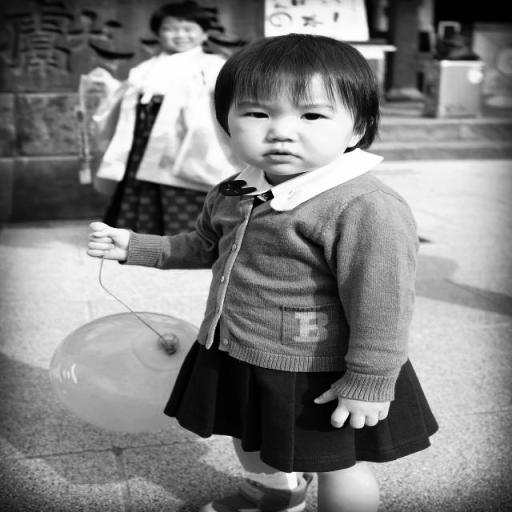balloon: (48, 310, 213, 432)
